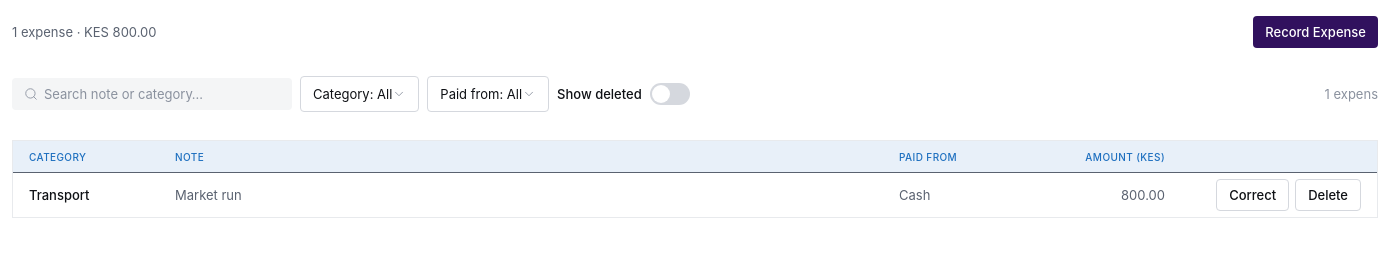
Test: Admin Financials — Expenses tab › hides deleted expenses until 'Show deleted' is on; deleted rows have no actions
expect the text "Duplicate airtime" is not shown: met
Step 1. Click the switch named "Show deleted" → (670, 94), box top-left (650, 83), bottom-right (690, 105)
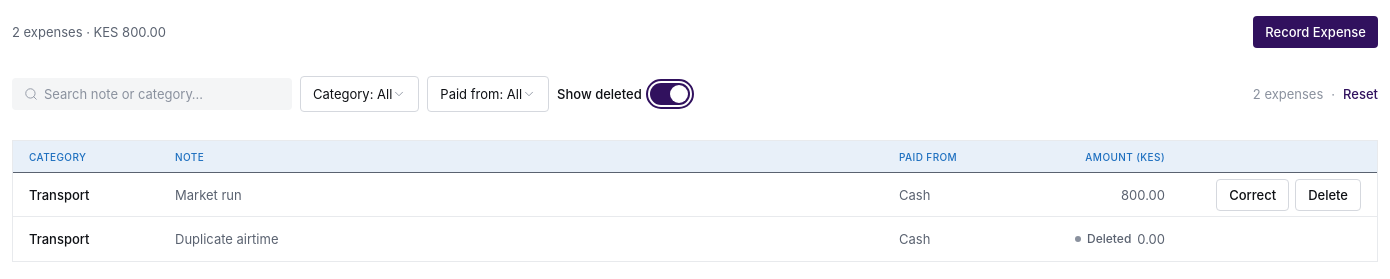
expect the text "Duplicate airtime" is shown: met, box top-left (175, 231), bottom-right (278, 247)
expect the text "Deleted" is shown: met, box top-left (1087, 231), bottom-right (1131, 247)
